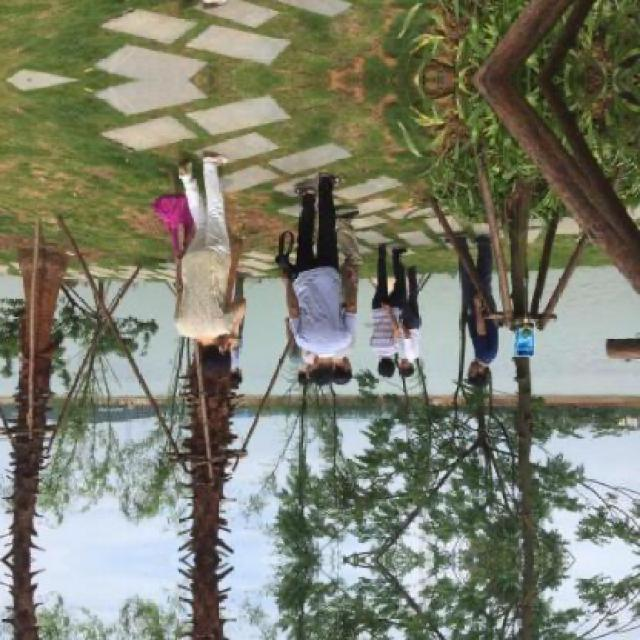sin casco: (454, 346, 520, 386), (198, 337, 240, 370), (390, 344, 428, 380), (364, 342, 405, 370), (303, 371, 343, 393), (314, 357, 347, 378)
